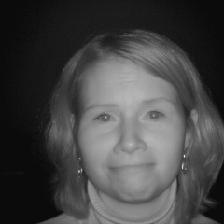happy: (45, 25, 212, 204)
